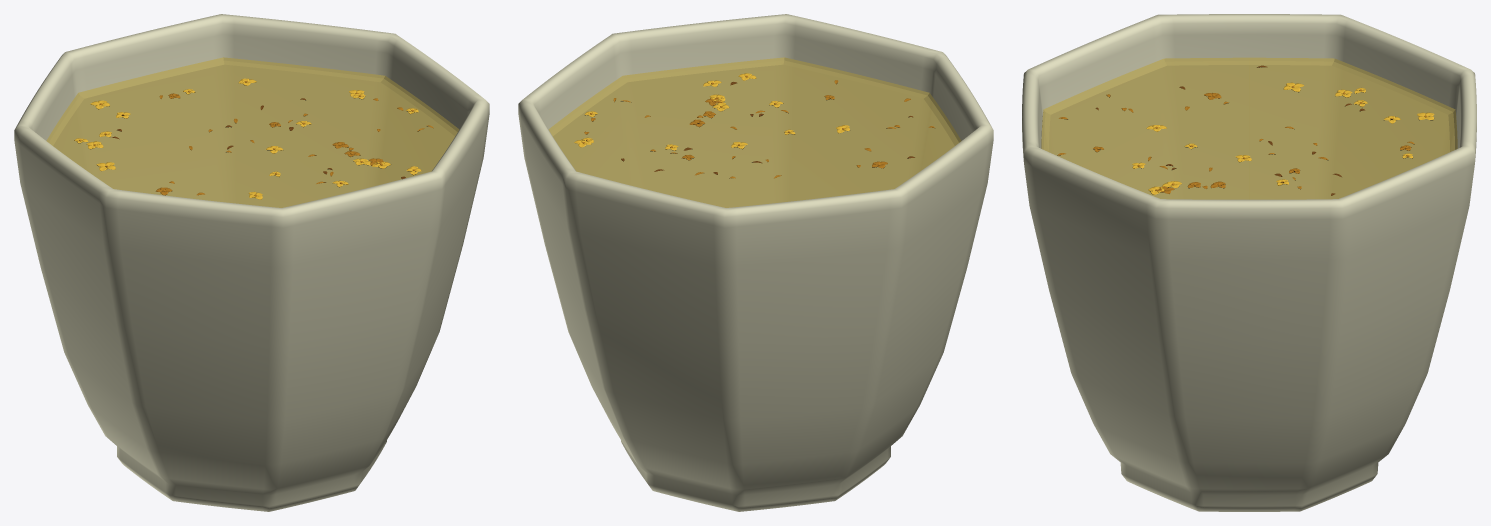
The model's file is nanjing-tea-original.glb.
3 views of the same model, side by side, from view 1: azimuth 30°, elevation 25°; view 2: azimuth 150°, elevation 25°; view 3: azimuth 270°, elevation 25° (orthographic).
Parts seen in each view (by area): view 1: nanjing-tea; view 2: nanjing-tea; view 3: nanjing-tea.
Part boxes in pixels (left/top/right/bottom): nanjing-tea: left=14, top=14, right=489, bottom=511; nanjing-tea: left=518, top=14, right=993, bottom=511; nanjing-tea: left=1022, top=14, right=1476, bottom=511.
Bounding box in the file's own units: 0.0755 × 0.0648 × 0.0755.
5 materials, 4 textured.
